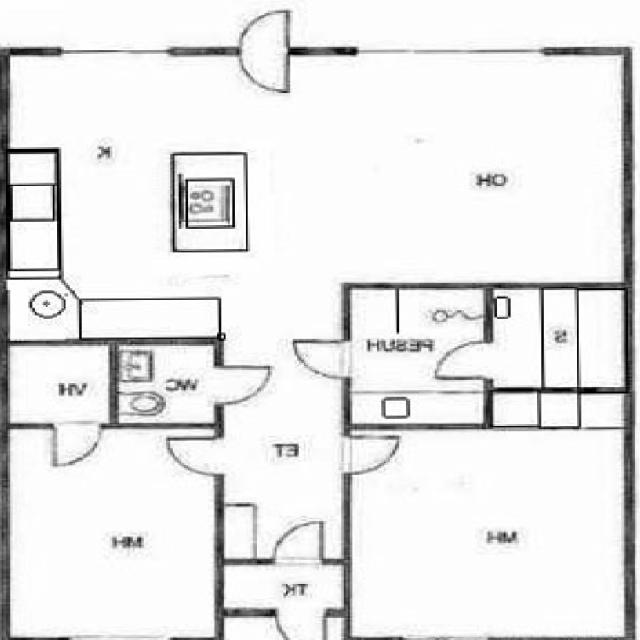door: (240, 47, 289, 93), (240, 10, 289, 55), (294, 340, 352, 378), (165, 438, 223, 475), (215, 367, 272, 404), (344, 437, 400, 474), (54, 422, 102, 465), (437, 341, 492, 378), (274, 522, 321, 564), (276, 609, 325, 640)
